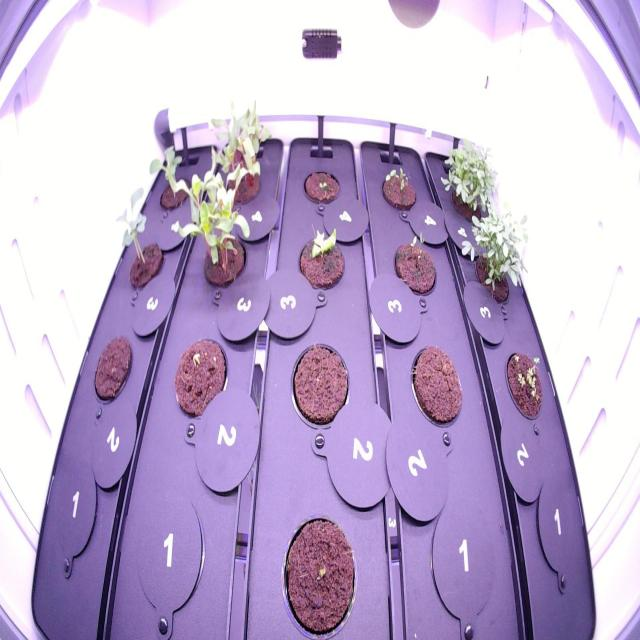empty_pod: (425, 494, 503, 628), (132, 488, 209, 620), (531, 473, 590, 586), (48, 457, 104, 564)
germination: (389, 221, 444, 310), (375, 152, 424, 220), (299, 154, 346, 212)
pod: (274, 507, 362, 637), (287, 333, 355, 438), (166, 324, 232, 426), (404, 338, 468, 434), (86, 325, 139, 411), (502, 339, 553, 426)
young: (291, 218, 351, 296)
